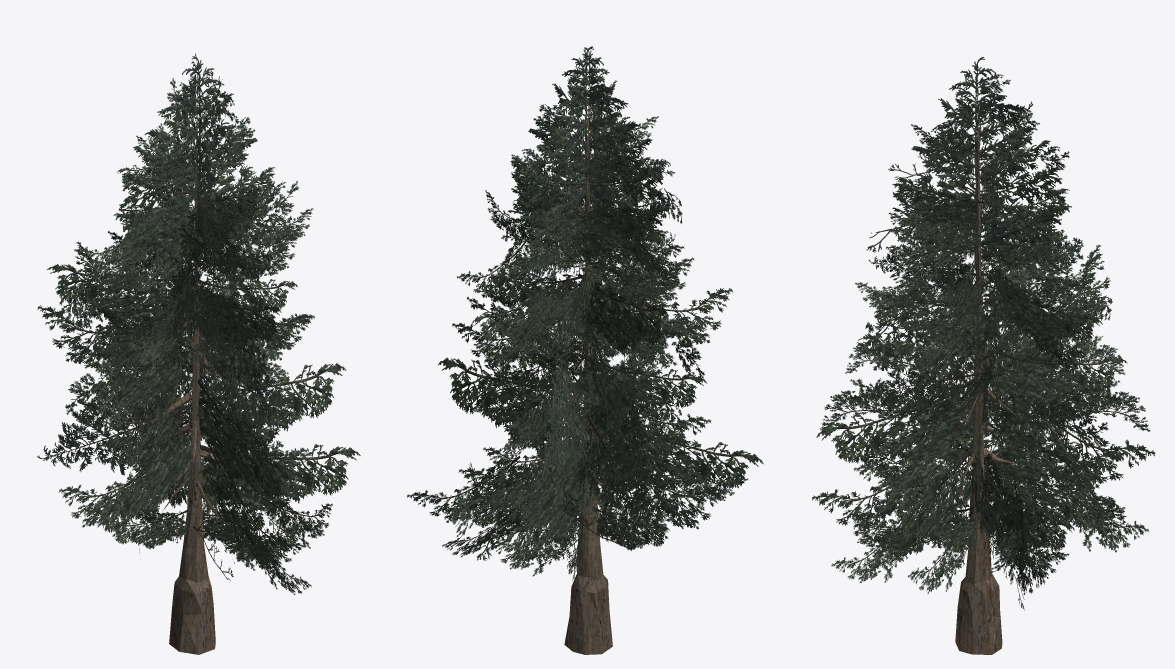
The model's file is smrk_p1.glb.
The picture shows the model from 3 angles, left to right: view 1: azimuth 30°, elevation 25°; view 2: azimuth 150°, elevation 25°; view 3: azimuth 270°, elevation 25°; orthographic projection.
Parts seen in each view (by area): view 1: Tree_Branches_01.002_Tree_Branches_01_0, Tree_Trunk_01.002_Tree_Trunk_01_0; view 2: Tree_Branches_01.002_Tree_Branches_01_0, Tree_Trunk_01.002_Tree_Trunk_01_0; view 3: Tree_Branches_01.002_Tree_Branches_01_0, Tree_Trunk_01.002_Tree_Trunk_01_0.
Part boxes in pixels (<box>): Tree_Branches_01.002_Tree_Branches_01_0: <box>37,53,360,594</box>; Tree_Trunk_01.002_Tree_Trunk_01_0: <box>147,114,229,654</box>; Tree_Branches_01.002_Tree_Branches_01_0: <box>407,46,763,581</box>; Tree_Trunk_01.002_Tree_Trunk_01_0: <box>554,104,628,654</box>; Tree_Branches_01.002_Tree_Branches_01_0: <box>812,57,1155,610</box>; Tree_Trunk_01.002_Tree_Trunk_01_0: <box>937,109,1021,654</box>.
Bounding box in the file's own units: 6.74 × 12.37 × 6.75.
Materials: 2 (2 with a texture image).
